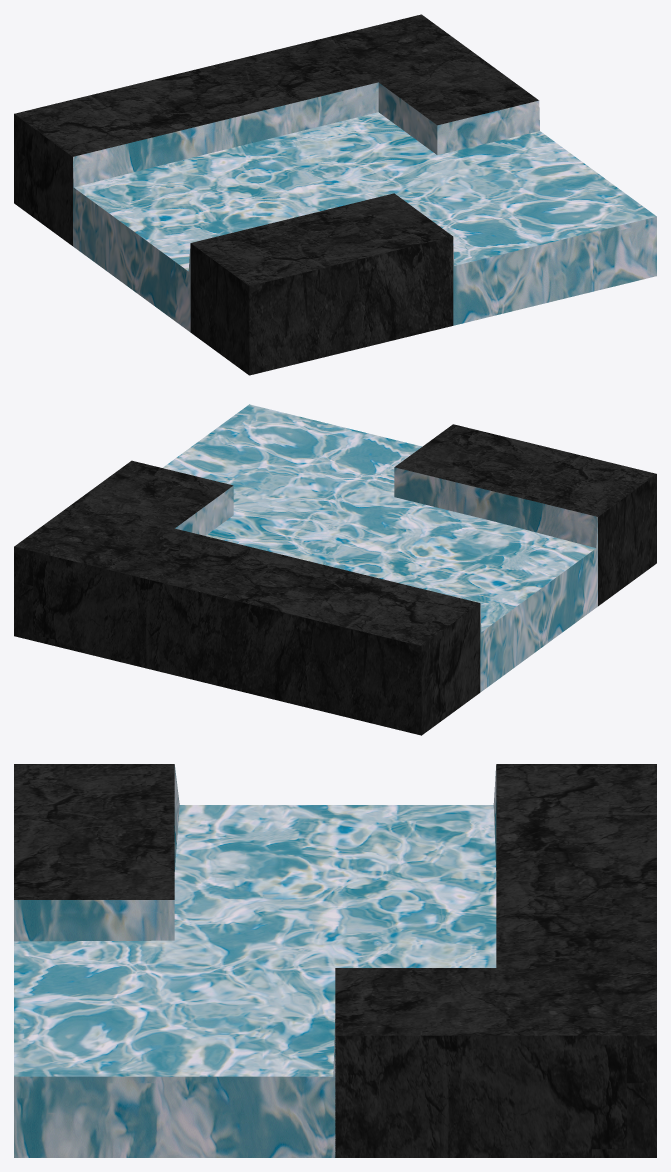
The model's file is AllyPath11.fbx.
3 renders of one model, top to bottom at view 1: azimuth 30°, elevation 25°; view 2: azimuth 150°, elevation 25°; view 3: azimuth 270°, elevation 25°, orthographic. The views are drawn at different scales.
Visible parts, largest first — view 1: AllyPath11; view 2: AllyPath11; view 3: AllyPath11.
Boxes of the visible parts, x1,y1,x2,y2 form: AllyPath11: [14, 14, 656, 375]; AllyPath11: [14, 404, 656, 735]; AllyPath11: [14, 764, 656, 1157].
Bounding box in the file's own units: 100 × 20.97 × 100.
2 materials, 2 textured.
